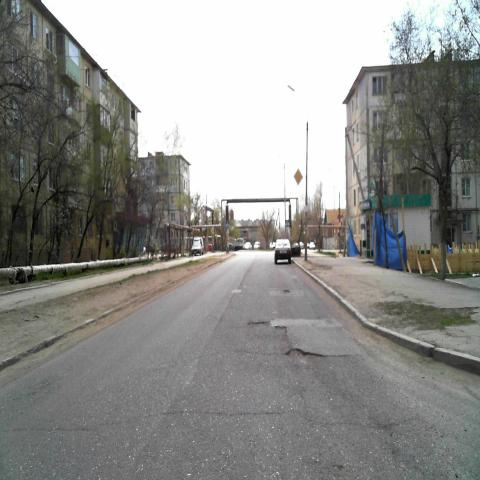2_1: (293, 169, 303, 185)
